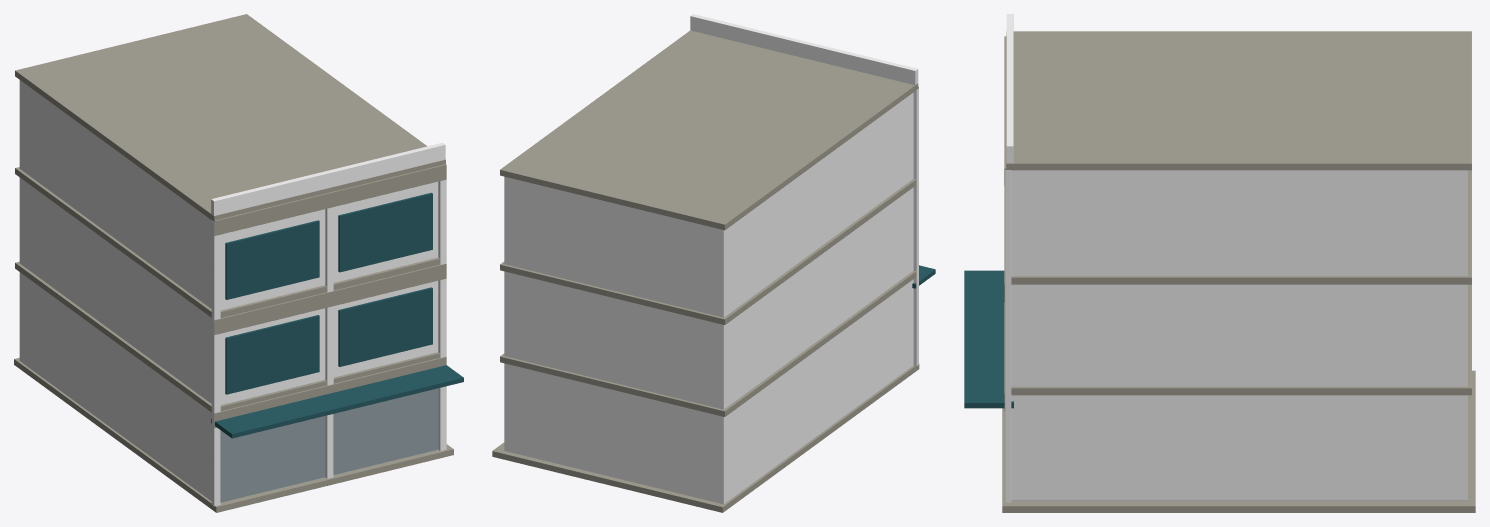
File: source-edit.glb
The picture shows the model from 3 angles, left to right: view 1: azimuth 30°, elevation 25°; view 2: azimuth 150°, elevation 25°; view 3: azimuth 270°, elevation 25°; orthographic projection. The views are drawn at different scales.
Visible parts, largest first — view 1: Party_Wall, Flat_Slab.002, Ground_Shutter, Ground_Shutter.001, Upper_Front_Wall.001, Ribbon_Window.001, Ribbon_Window.002, Ribbon_Window, Ribbon_Window.003, Modern_Awning, Upper_Front_Wall, Flat_Parapet (+9 smaller); view 2: Rear_Wall, Party_Wall, Flat_Slab.002, Flat_Parapet, Base, Flat_Slab.001, Flat_Slab, Facade_Pier, Party_Wall.001; view 3: Party_Wall.001, Flat_Slab.002, Base, Modern_Awning, Flat_Slab, Flat_Slab.001, Facade_Pier.002, Flat_Parapet.
Boxes of the visible parts, left/top/right/bottom form: Party_Wall: left=19, top=80, right=220, bottom=500; Flat_Slab.002: left=15, top=14, right=445, bottom=221; Ground_Shutter: left=220, top=416, right=325, bottom=502; Ground_Shutter.001: left=333, top=388, right=438, bottom=474; Upper_Front_Wall.001: left=220, top=182, right=438, bottom=310; Ribbon_Window.001: left=225, top=220, right=319, bottom=299; Ribbon_Window.002: left=338, top=287, right=432, bottom=366; Ribbon_Window: left=225, top=315, right=319, bottom=394; Ribbon_Window.003: left=338, top=192, right=432, bottom=272; Modern_Awning: left=211, top=365, right=463, bottom=438; Upper_Front_Wall: left=220, top=280, right=438, bottom=404; Flat_Parapet: left=211, top=142, right=445, bottom=215; Rear_Wall: left=509, top=178, right=718, bottom=502; Party_Wall: left=718, top=92, right=913, bottom=504; Flat_Slab.002: left=500, top=30, right=918, bottom=230; Flat_Parapet: left=690, top=14, right=918, bottom=85; Base: left=492, top=363, right=919, bottom=512; Flat_Slab.001: left=500, top=179, right=916, bottom=324; Flat_Slab: left=500, top=270, right=916, bottom=416; Facade_Pier: left=913, top=88, right=918, bottom=365; Party_Wall.001: left=504, top=176, right=509, bottom=451; Party_Wall.001: left=1011, top=170, right=1467, bottom=500; Flat_Slab.002: left=1006, top=31, right=1471, bottom=170; Base: left=1002, top=370, right=1475, bottom=512; Modern_Awning: left=964, top=270, right=1013, bottom=408; Flat_Slab: left=1011, top=284, right=1471, bottom=395; Flat_Slab.001: left=1011, top=170, right=1471, bottom=284; Facade_Pier.002: left=1005, top=170, right=1011, bottom=502; Flat_Parapet: left=1006, top=14, right=1013, bottom=163.
Size of the model in its own units: 8.43 by 10.5 by 13.4.
